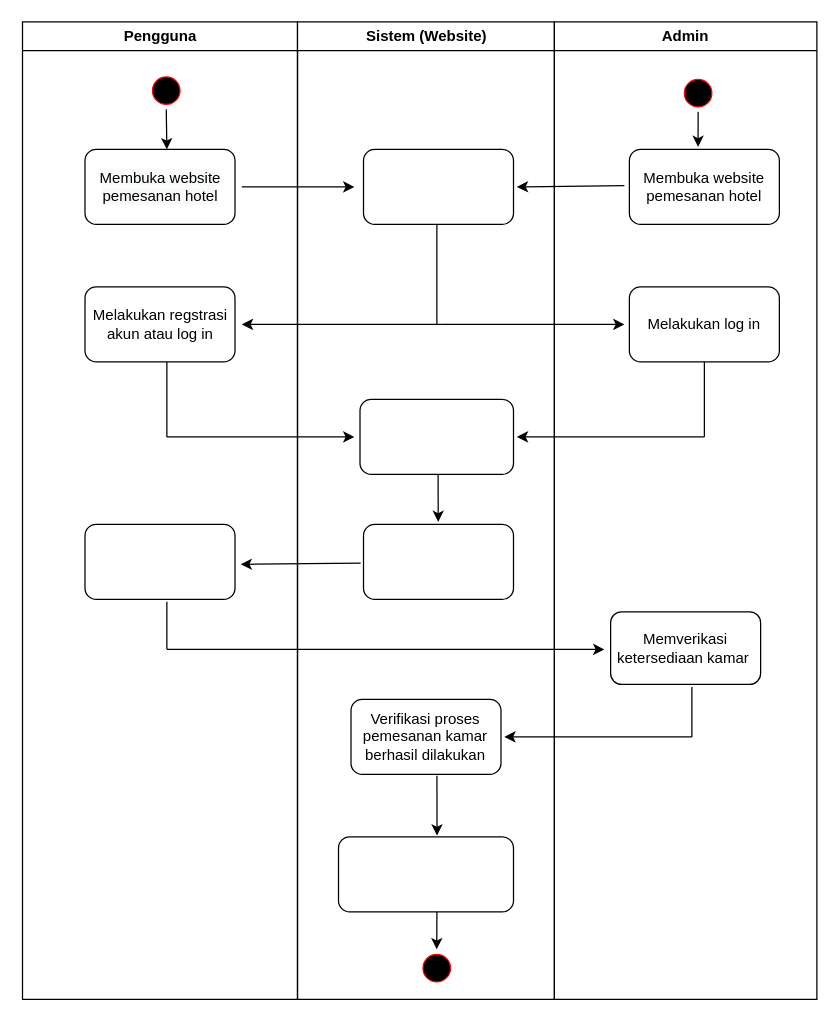
Image size: 839x1021. Some labels were removed from this diagram. Here are the shapes that lost their labels. From the top down, the centre of each, then its label:
At pixel 438 186: "Menampilkan form log in user".
At pixel 436 436: "Verifikasi akun".
At pixel 159 561: "Melakukan pemesanan kamar".
At pixel 438 561: "Menampilkan daftar kamar yang ada".
At pixel 425 874: "Menyimpan data pemesanan ke dalam database".
